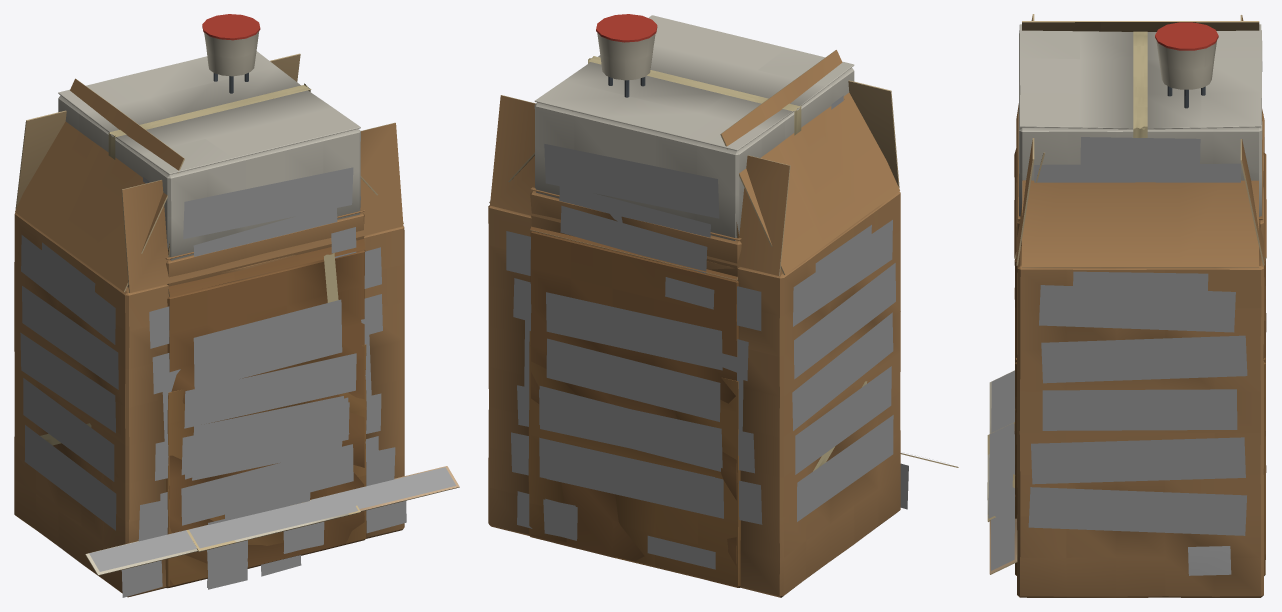
Rendered from offices.glb.
3 views of the same model, side by side, from view 1: azimuth 30°, elevation 25°; view 2: azimuth 150°, elevation 25°; view 3: azimuth 270°, elevation 25° (orthographic). The views are drawn at different scales.
Visible parts, largest first — view 1: ship_wide, ship_tall, ship_open, ship_stack, ship_kestrel; view 2: ship_wide, ship_open, ship_tall, ship_stack, ship_kestrel; view 3: ship_wide, ship_tall, ship_open, ship_stack, ship_kestrel.
Part boxes in pixels (x1,y1,x2,y2): ship_wide: (14,53,459,597); ship_tall: (58,14,360,587); ship_open: (167,239,365,589); ship_stack: (165,344,366,588); ship_kestrel: (165,209,364,286); ship_wide: (488,50,958,597); ship_open: (530,98,844,587); ship_tall: (534,14,854,240); ship_stack: (528,331,740,587); ship_kestrel: (530,187,741,276); ship_wide: (989,14,1264,597); ship_tall: (1018,22,1262,216); ship_open: (987,148,1266,559); ship_stack: (987,288,1266,575); ship_kestrel: (999,113,1264,513).
Bounding box in the file's own units: 2.36 × 3 × 1.45.
